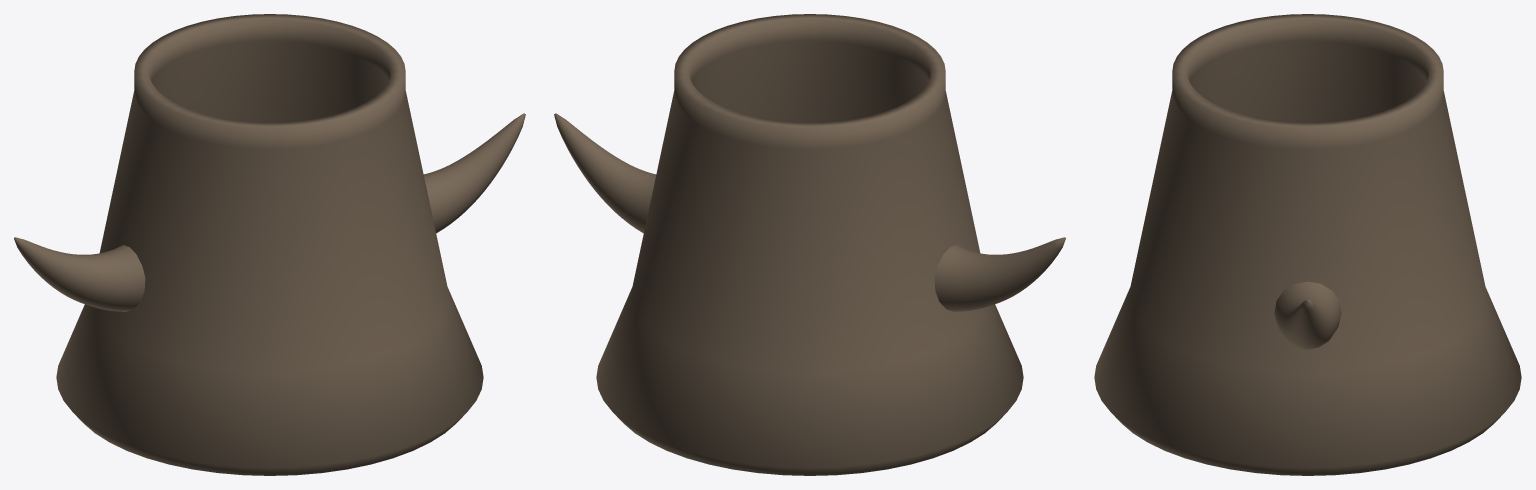
Rendered from siru.glb.
3 renders of one model, left to right at view 1: azimuth 30°, elevation 25°; view 2: azimuth 150°, elevation 25°; view 3: azimuth 270°, elevation 25°, orthographic.
Parts seen in each view (by area): view 1: Open-bottom siru, Horn handle, Horn handle.001; view 2: Open-bottom siru, Horn handle, Horn handle.001; view 3: Open-bottom siru, Horn handle.001.
Boxes of the visible parts, bbox=[...] form: Open-bottom siru: bbox=[56, 14, 483, 475]; Horn handle: bbox=[14, 237, 145, 311]; Horn handle.001: bbox=[423, 113, 525, 233]; Open-bottom siru: bbox=[596, 14, 1023, 475]; Horn handle: bbox=[934, 237, 1065, 311]; Horn handle.001: bbox=[554, 113, 656, 233]; Open-bottom siru: bbox=[1094, 14, 1521, 475]; Horn handle.001: bbox=[1274, 281, 1341, 349].
Bounding box in the file's own units: 1.02 × 0.61 × 0.74.
